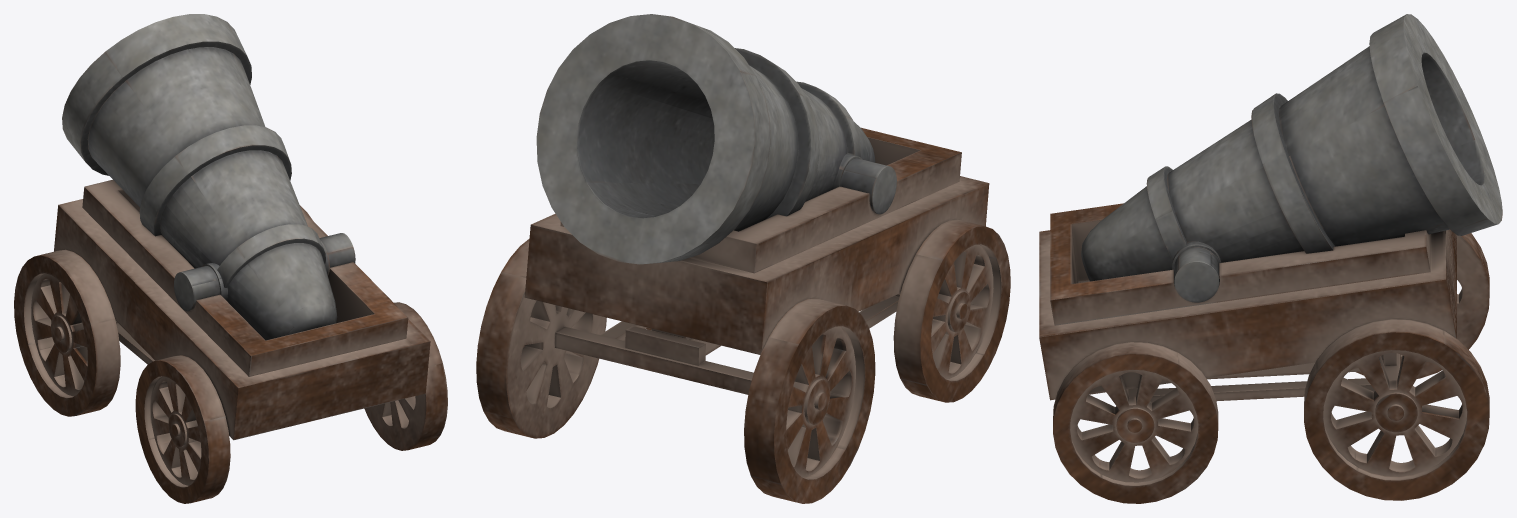
The model's file is cannon-gltf-embedded.gltf.
3 views of the same model, side by side, from view 1: azimuth 30°, elevation 25°; view 2: azimuth 150°, elevation 25°; view 3: azimuth 270°, elevation 25° (orthographic). The views are drawn at different scales.
Visible parts, largest first — view 1: Box.002_Box.004; view 2: Box.002_Box.004; view 3: Box.002_Box.004.
Boxes of the visible parts, left/top/right/bottom form: Box.002_Box.004: left=14, top=14, right=447, bottom=503; Box.002_Box.004: left=476, top=14, right=1010, bottom=503; Box.002_Box.004: left=1039, top=14, right=1502, bottom=503.
Size of the model in its own units: 3.38 by 4.89 by 4.98.
Materials: 1 (1 with a texture image).
